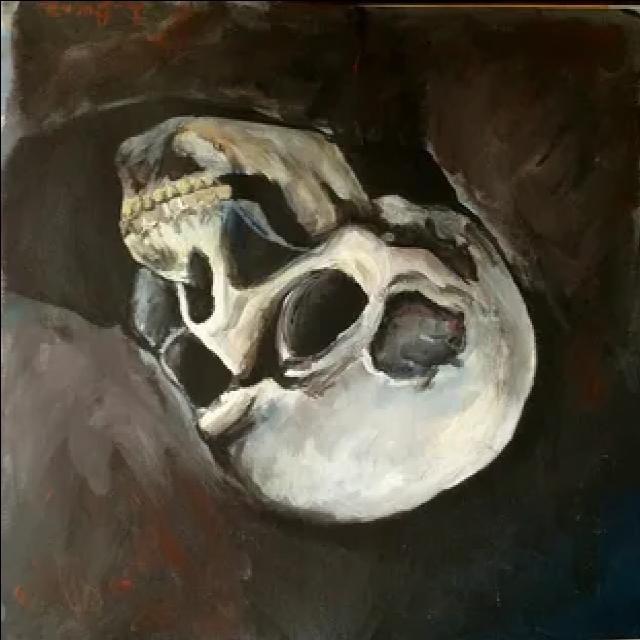skull: (105, 97, 544, 529)
